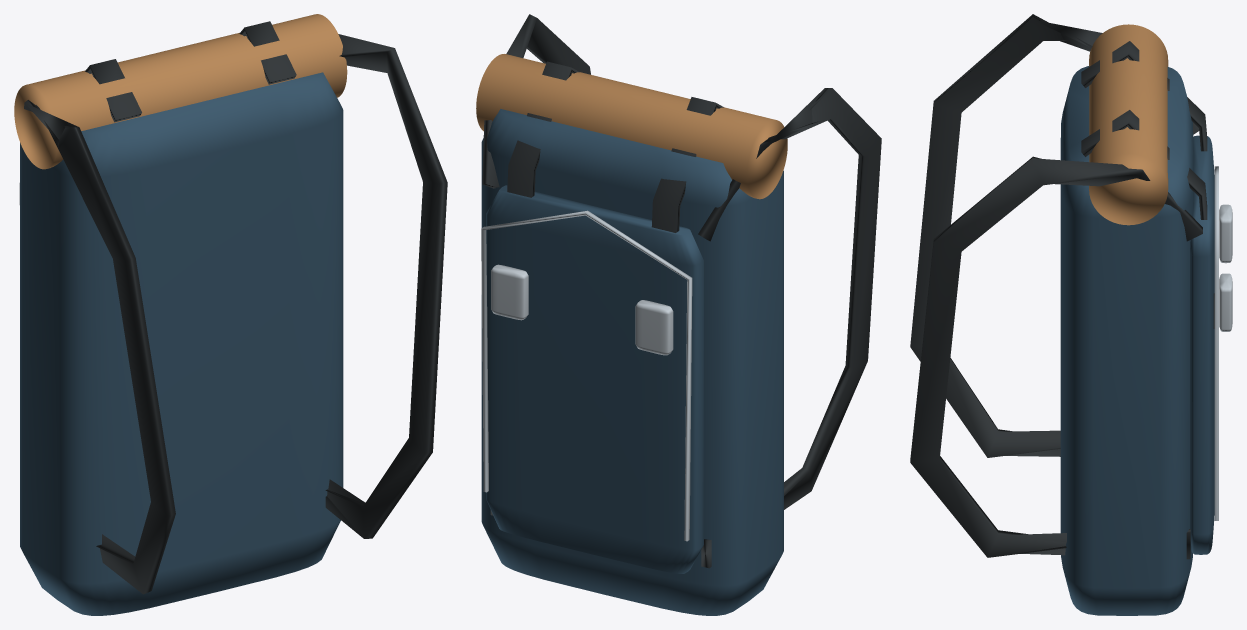
The model's file is 08-rolltop.glb.
3 views of the same model, side by side, from view 1: azimuth 30°, elevation 25°; view 2: azimuth 150°, elevation 25°; view 3: azimuth 270°, elevation 25° (orthographic). The views are drawn at different scales.
Parts seen in each view (by area): view 1: 08-rolltop; view 2: 08-rolltop; view 3: 08-rolltop.
Boxes of the visible parts, x1,y1,x2,y2 form: 08-rolltop: (14, 14, 447, 615); 08-rolltop: (476, 14, 881, 615); 08-rolltop: (910, 14, 1232, 615).
Bounding box in the file's own units: 0.3137 × 0.4678 × 0.2848.
